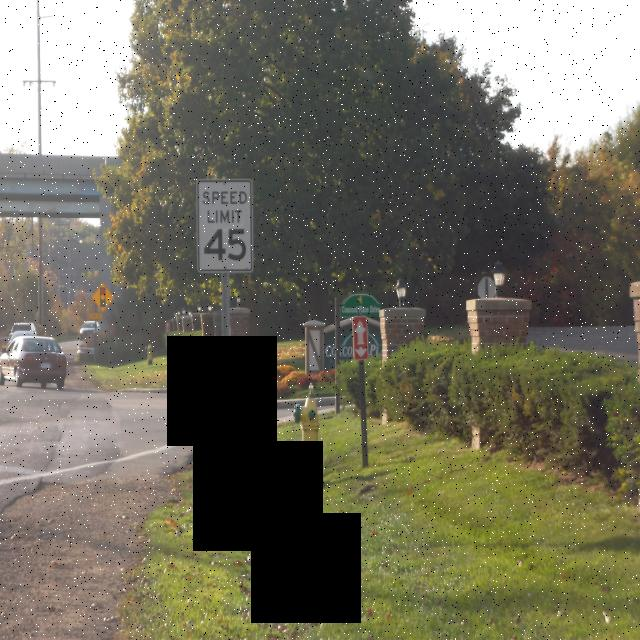regulatory: (194, 177, 256, 276)
warning: (89, 277, 112, 319)
